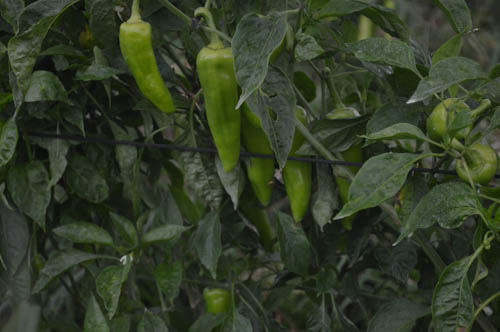ChiliPepper: (120, 22, 174, 111), (201, 46, 236, 167), (281, 105, 309, 217), (243, 105, 272, 204), (325, 111, 351, 206), (429, 97, 470, 140), (460, 144, 496, 185)
